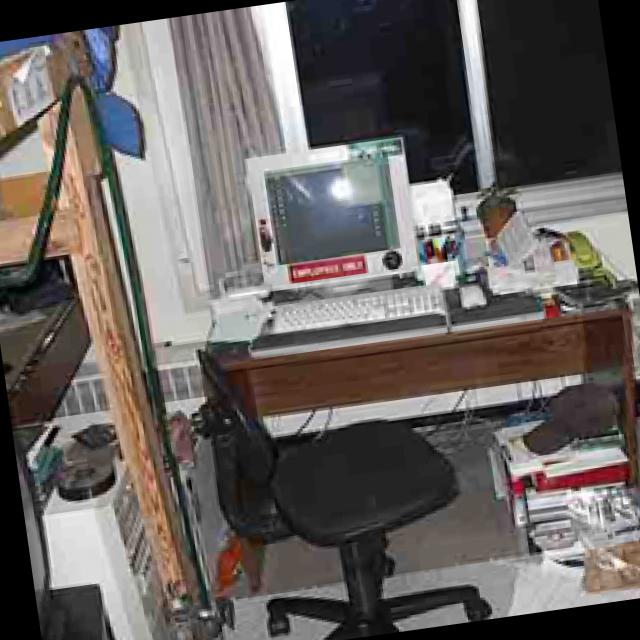2001: (285, 0, 617, 209)
air vent: (53, 338, 197, 433)
bag occluded: (566, 484, 640, 589)
books crop: (489, 418, 628, 525), (18, 421, 63, 509)
box contants: (40, 584, 118, 640)
cd-s: (57, 453, 117, 500)
chair -occluded-: (193, 350, 487, 636)
computer crop: (35, 459, 168, 640)
curtain crop: (167, 7, 278, 290)
desk calendar: (200, 251, 636, 585)
hat: (516, 377, 612, 451)
keyboard crop: (268, 284, 440, 327)
loft: (0, 31, 219, 640)
monitor crop: (239, 137, 413, 286)
mouse pad: (454, 283, 482, 306)
paper cup with straws: (481, 259, 574, 292), (404, 174, 451, 225), (492, 209, 534, 264)
papers: (503, 554, 637, 615), (202, 298, 262, 340)
pens: (415, 232, 461, 263)
phone charger: (560, 226, 616, 284)
plant -x: (470, 175, 518, 234)
